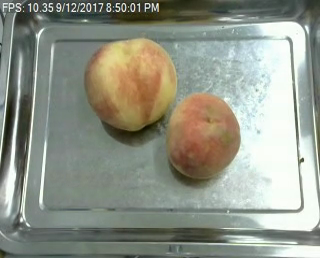Peach: (85, 36, 177, 132), (165, 91, 241, 179)
